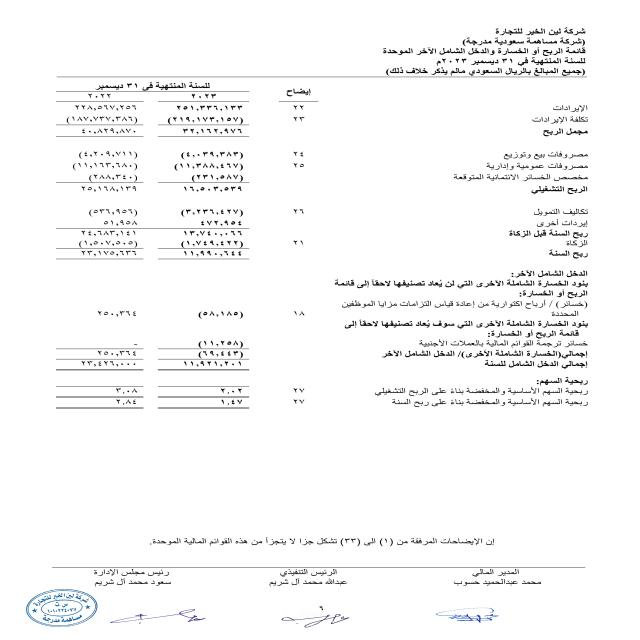financial_sheets: (377, 44, 588, 60)
table: (39, 74, 324, 449)
